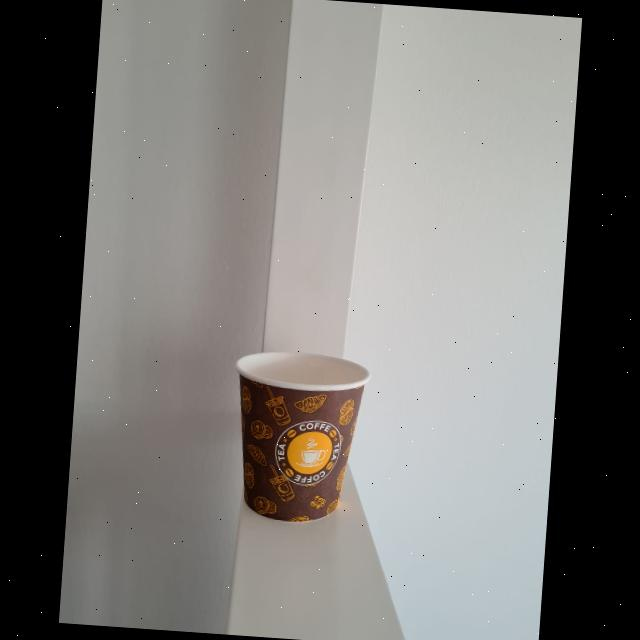trash: (222, 340, 368, 524)
